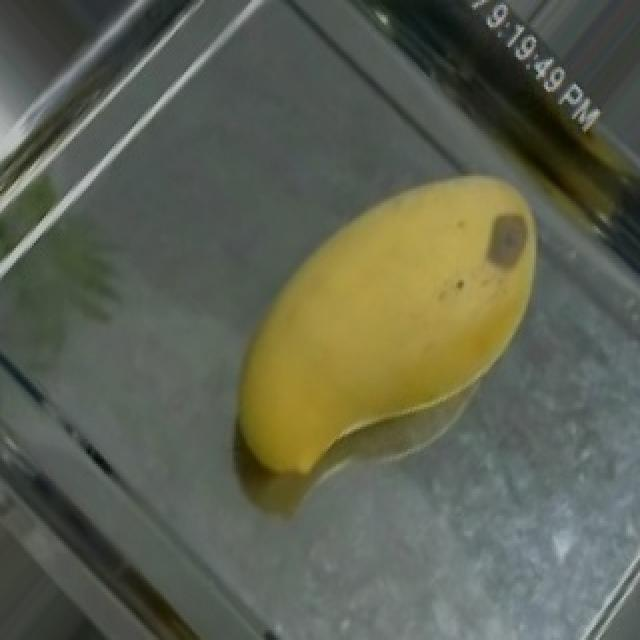fruit: (244, 117, 602, 496)
